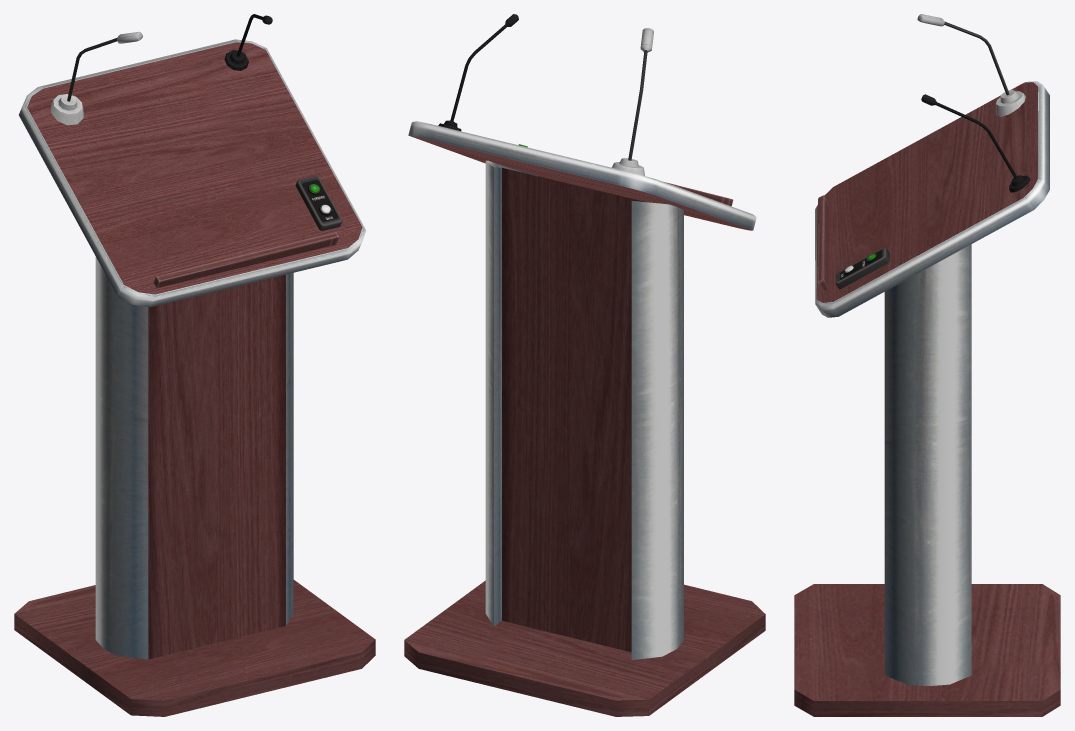
The model's file is lecturn.FBX.
The picture shows the model from 3 angles, left to right: view 1: azimuth 30°, elevation 25°; view 2: azimuth 150°, elevation 25°; view 3: azimuth 270°, elevation 25°; orthographic projection. The views are drawn at different scales.
Visible parts, largest first — view 1: lecturn; view 2: lecturn; view 3: lecturn.
Boxes of the visible parts, <box> form: lecturn: <box>14,14,375,716</box>; lecturn: <box>404,14,765,716</box>; lecturn: <box>794,14,1060,716</box>.
Size of the model in its own units: 0.711 by 1.74 by 0.6828.
